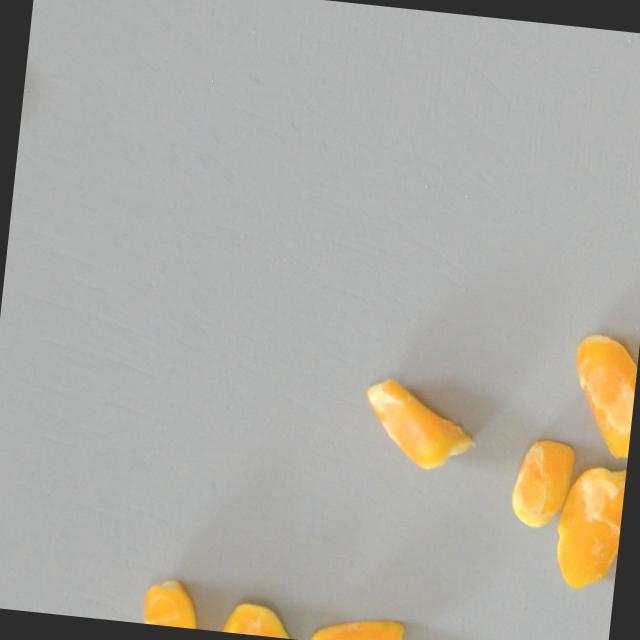pelicula: (357, 375, 482, 474), (562, 331, 640, 460), (550, 462, 626, 594), (507, 435, 578, 534), (220, 594, 304, 640), (141, 574, 206, 629), (306, 611, 422, 640)
